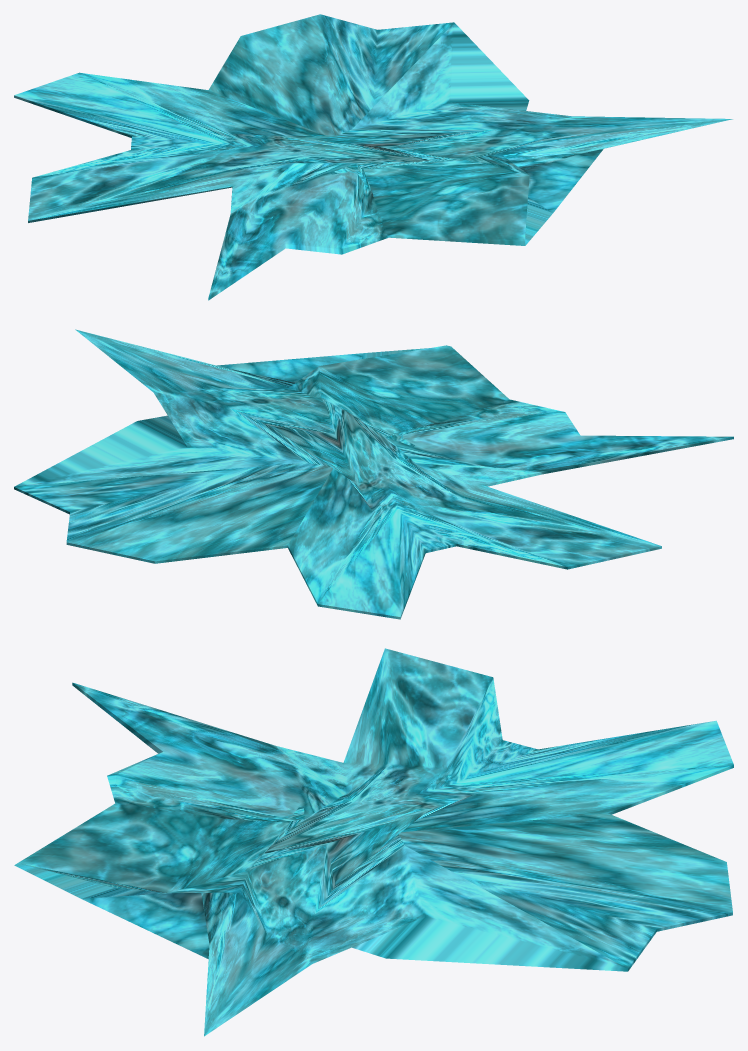
File: puddle2.fbx
3 views of the same model, one above another, from view 1: azimuth 30°, elevation 25°; view 2: azimuth 150°, elevation 25°; view 3: azimuth 270°, elevation 25° (orthographic). The views are drawn at different scales.
Parts seen in each view (by area): view 1: Puddle2; view 2: Puddle2; view 3: Puddle2.
Part boxes in pixels (x1=…): Puddle2: x1=14, y1=14, x2=732, y2=300; Puddle2: x1=14, y1=329, x2=733, y2=619; Puddle2: x1=14, y1=648, x2=733, y2=1036.
Bounding box in the file's own units: 266 × 4.68 × 208.
Materials: 1 (1 with a texture image).
